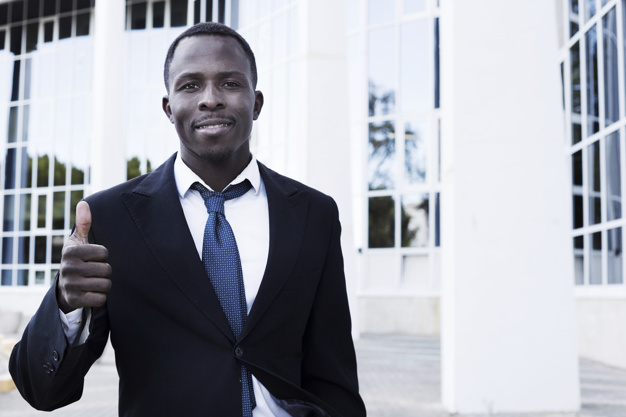thumbsup: (60, 201, 112, 307)
